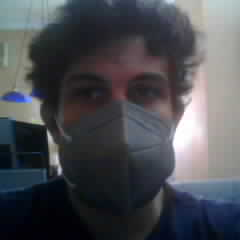with_mask: (59, 38, 174, 204)
